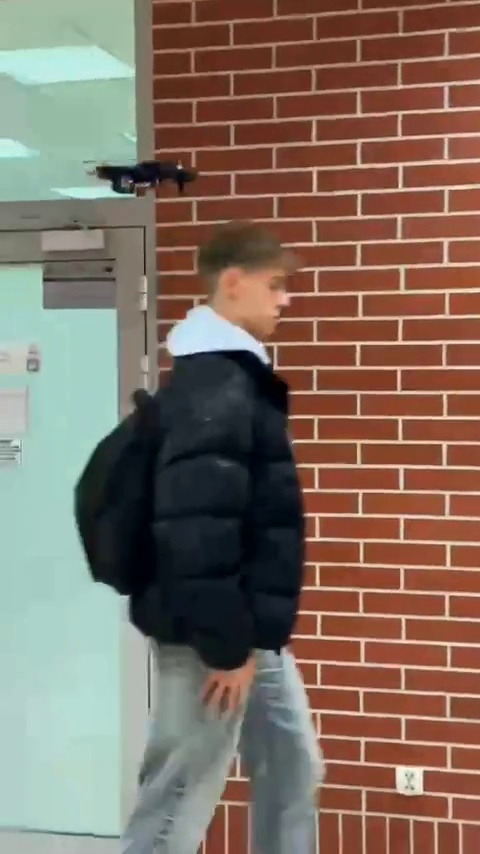drone: (98, 160, 201, 196)
no vest: (75, 219, 328, 851)
